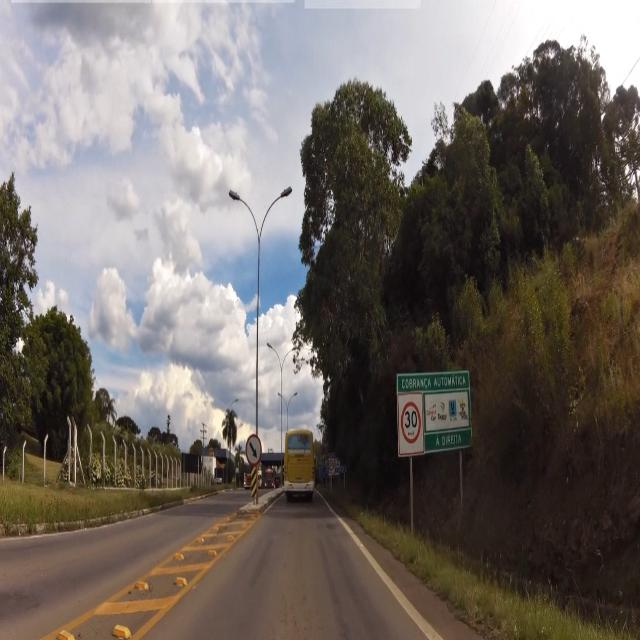R-19: (398, 402, 424, 458)
R-24b: (245, 432, 265, 464)
